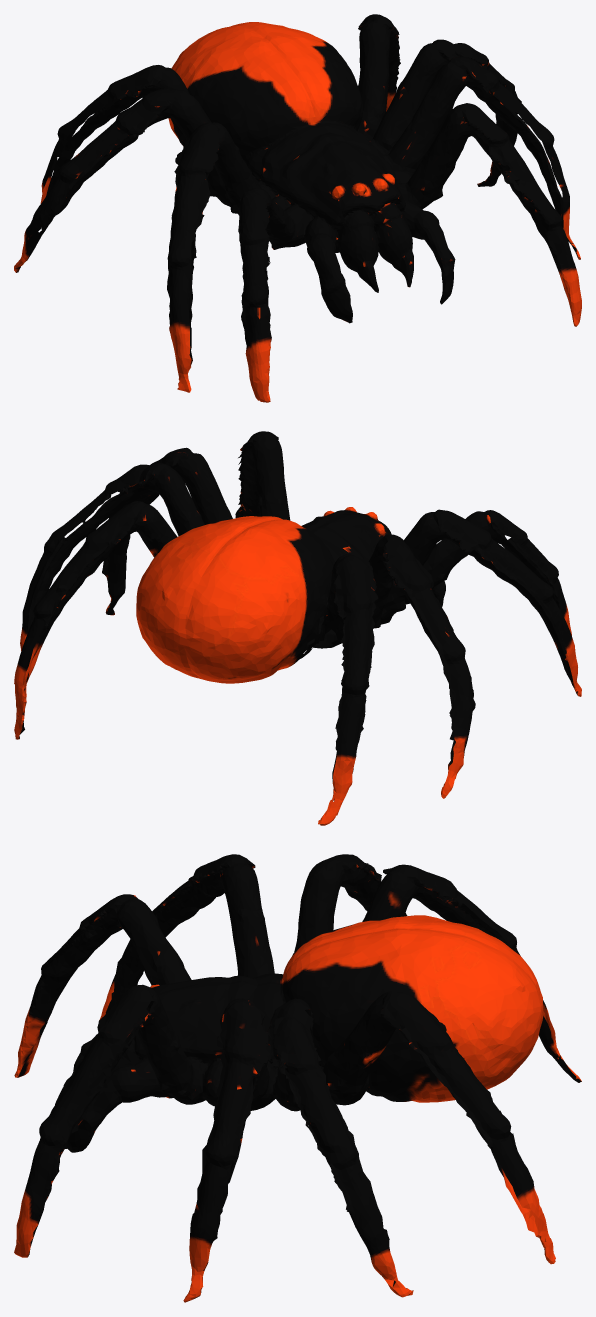
Rendered from aranha.glb.
3 renders of one model, top to bottom at view 1: azimuth 30°, elevation 25°; view 2: azimuth 150°, elevation 25°; view 3: azimuth 270°, elevation 25°, orthographic. The views are drawn at different scales.
Parts seen in each view (by area): view 1: tmpl7dkw4jc.ply; view 2: tmpl7dkw4jc.ply; view 3: tmpl7dkw4jc.ply.
Part boxes in pixels (box(x1,y1,x2,y2)): tmpl7dkw4jc.ply: box(14, 14, 581, 402); tmpl7dkw4jc.ply: box(14, 431, 581, 825); tmpl7dkw4jc.ply: box(14, 854, 581, 1302).
Size of the model in its own units: 1.98 by 0.8498 by 1.77.
Materials: 1 (1 with a texture image).
